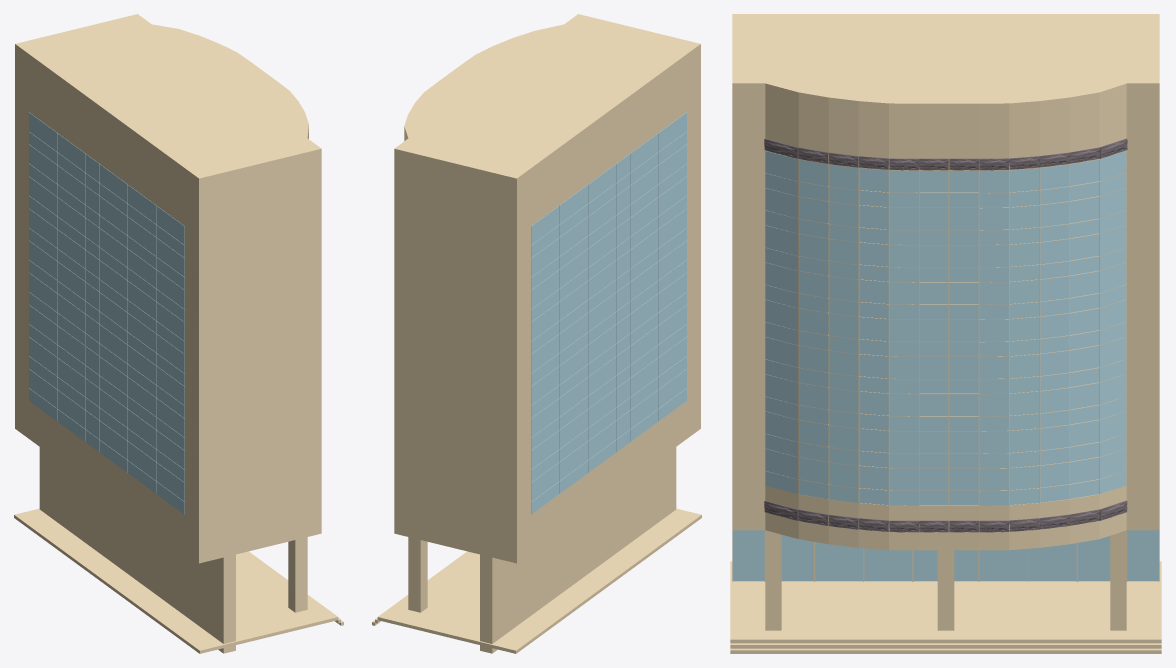
The model's file is 5 between 6 building_1.glb.
3 renders of one model, left to right at view 1: azimuth 30°, elevation 25°; view 2: azimuth 150°, elevation 25°; view 3: azimuth 270°, elevation 25°, orthographic. The views are drawn at different scales.
Visible parts, largest first — view 1: Cube.004, No.5 between No.6 conect.001, stairs, Cube.002, back-windows-4, back-windows-9, back-windows-2, back-windows-3, back-windows-7, back-windows-11, back-windows-5, back-windows-6 (+12 smaller); view 2: Cube.002, No.5 between No.6 conect.001, stairs, Cube.004, back-windows-3, back-windows-8, back-windows-1, back-windows-5, back-windows-9, back-windows-10, back-windows-2, back-windows-6 (+12 smaller); view 3: No.5 between No.6 conect.001, stairs, Cube.002, Cube.004, right-windows-12, right-windows-5, right-windows-8, right-windows-10, right-windows-11, right-windows-6, right-windows-4, right-windows-9 (+18 smaller).
Boxes of the visible parts, left/top/right/bottom form: Cube.004: left=185, top=138, right=321, bottom=563; No.5 between No.6 conect.001: left=29, top=24, right=308, bottom=552; stairs: left=14, top=508, right=343, bottom=653; Cube.002: left=15, top=14, right=151, bottom=438; back-windows-4: left=71, top=143, right=85, bottom=441; back-windows-9: left=142, top=195, right=156, bottom=493; back-windows-2: left=43, top=122, right=57, bottom=420; back-windows-3: left=57, top=133, right=71, bottom=431; back-windows-7: left=113, top=174, right=127, bottom=472; back-windows-11: left=170, top=216, right=184, bottom=514; back-windows-5: left=85, top=154, right=99, bottom=451; back-windows-6: left=99, top=164, right=113, bottom=462; Cube.002: left=394, top=138, right=530, bottom=563; No.5 between No.6 conect.001: left=404, top=24, right=686, bottom=552; stairs: left=372, top=508, right=701, bottom=653; Cube.004: left=564, top=14, right=700, bottom=438; back-windows-3: left=559, top=195, right=573, bottom=493; back-windows-8: left=630, top=143, right=644, bottom=441; back-windows-1: left=531, top=216, right=545, bottom=514; back-windows-5: left=588, top=174, right=602, bottom=472; back-windows-9: left=644, top=133, right=658, bottom=431; back-windows-10: left=658, top=122, right=672, bottom=420; back-windows-2: left=545, top=205, right=559, bottom=503; back-windows-6: left=602, top=164, right=616, bottom=462; No.5 between No.6 conect.001: left=765, top=14, right=1126, bottom=550; stairs: left=730, top=561, right=1161, bottom=653; Cube.002: left=1126, top=14, right=1159, bottom=530; Cube.004: left=732, top=14, right=765, bottom=530; right-windows-12: left=765, top=150, right=797, bottom=493; right-windows-5: left=979, top=170, right=1008, bottom=505; right-windows-8: left=889, top=170, right=918, bottom=505; right-windows-10: left=829, top=165, right=858, bottom=502; right-windows-11: left=799, top=159, right=828, bottom=499; right-windows-6: left=949, top=171, right=978, bottom=505; right-windows-4: left=1010, top=168, right=1039, bottom=504; right-windows-9: left=859, top=168, right=888, bottom=504.
Bounding box in the file's own units: 52.34 × 150 × 105.
